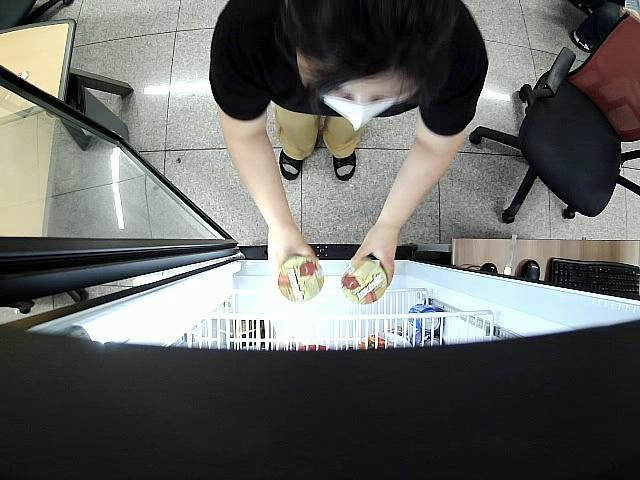04_chapagetti_S: (276, 254, 326, 304), (342, 258, 388, 304)
